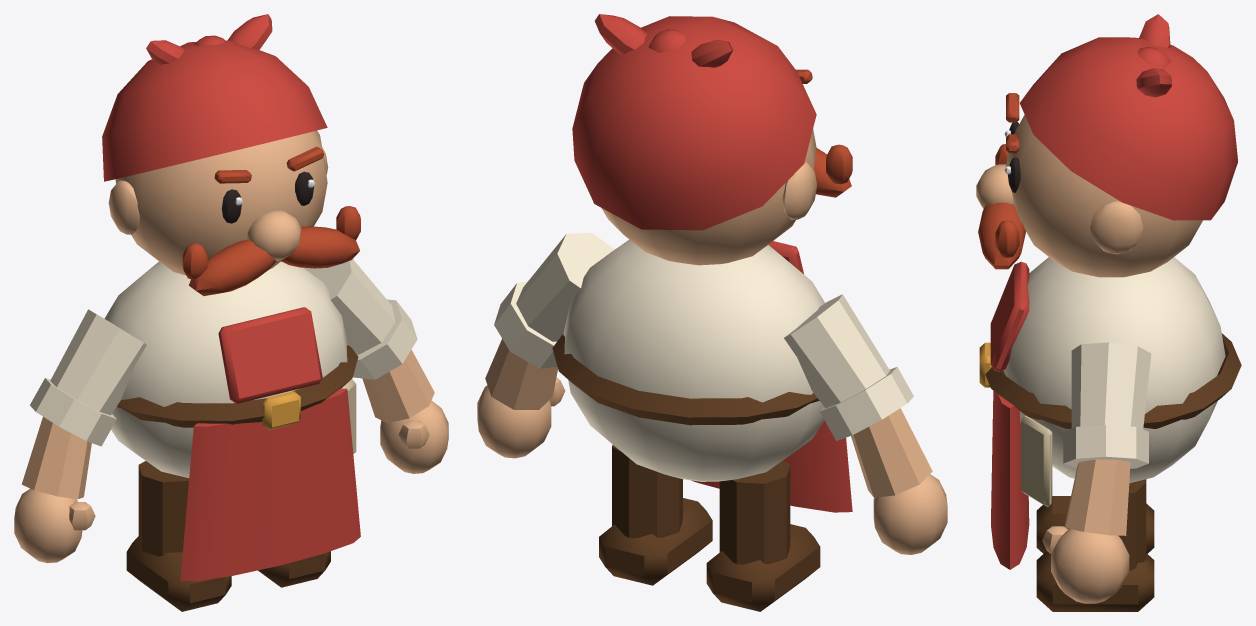
The model's file is CH_Main_Barlo.fbx.
The picture shows the model from 3 angles, left to right: view 1: azimuth 30°, elevation 25°; view 2: azimuth 150°, elevation 25°; view 3: azimuth 270°, elevation 25°; orthographic projection. The views are drawn at different scales.
Visible parts, largest first — view 1: CH_Main_Barlo; view 2: CH_Main_Barlo; view 3: CH_Main_Barlo.
Part boxes in pixels (x1=…): CH_Main_Barlo: x1=14, y1=14, x2=448, y2=611; CH_Main_Barlo: x1=477, y1=14, x2=947, y2=611; CH_Main_Barlo: x1=976, y1=14, x2=1241, y2=611.
Size of the model in its own units: 0.9352 by 1.12 by 0.4972.
Materials: 1 (1 with a texture image).
